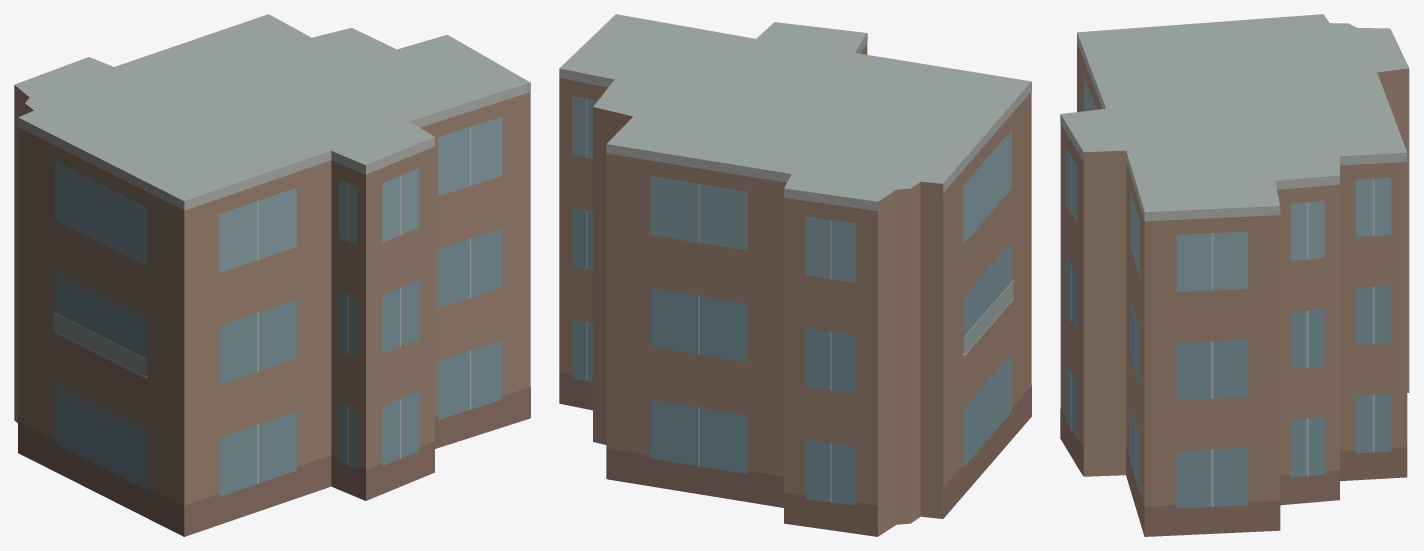
File: survey-upis-32461864.glb
The picture shows the model from 3 angles, left to right: view 1: azimuth 30°, elevation 25°; view 2: azimuth 150°, elevation 25°; view 3: azimuth 270°, elevation 25°; orthographic projection. The views are drawn at different scales.
Visible parts, largest first — view 1: survey-upis-32461864.tmp; view 2: survey-upis-32461864.tmp; view 3: survey-upis-32461864.tmp.
Part boxes in pixels (x1,y1,x2,y2): survey-upis-32461864.tmp: (14, 14, 530, 536); survey-upis-32461864.tmp: (559, 14, 1031, 536); survey-upis-32461864.tmp: (1060, 14, 1409, 536).
Size of the model in its own units: 11.41 by 8.7 by 8.49.
